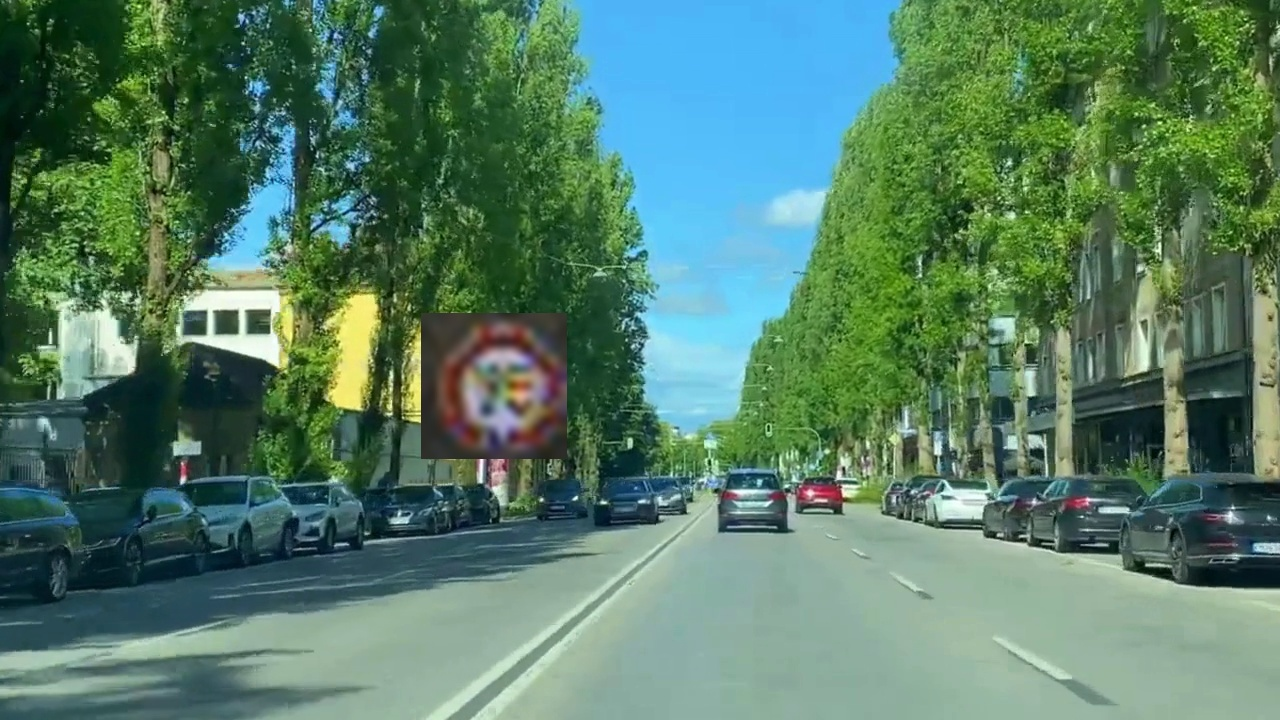Speed 70: (421, 313, 567, 459)
